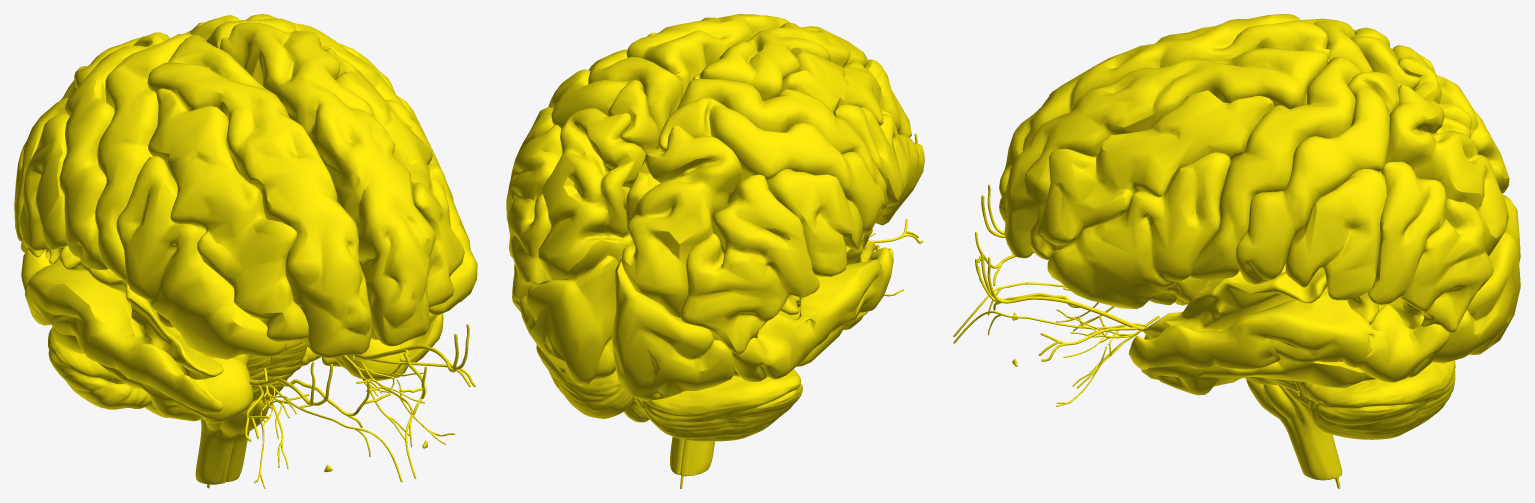
Rendered from nervous.glb.
3 renders of one model, left to right at view 1: azimuth 30°, elevation 25°; view 2: azimuth 150°, elevation 25°; view 3: azimuth 270°, elevation 25°, orthographic. The views are drawn at different scales.
Visible parts, largest first — view 1: right_superior_frontal_gyrus, left_superior_frontal_gyrus, right_middle_frontal_gyrus, right_inferior_frontal_gyrus, right_middle_temporal_gyrus, right_precentral_gyrus, right_postcentral_gyrus, left_middle_frontal_gyrus, right_supramarginal_gyrus, white_matter_of_right_cerebral_hemisphere, right_inferior_temporal_gyrus, cerebellum (+14 smaller); view 2: right_angular_gyrus, right_superior_parietal_lobule, left_superior_parietal_lobule, cerebellum (×2), right_occipital_lobe, right_postcentral_gyrus, left_occipital_lobe, right_middle_temporal_gyrus, right_superior_frontal_gyrus, right_supramarginal_gyrus, left_angular_gyrus, right_precentral_gyrus (+9 smaller); view 3: left_superior_frontal_gyrus, left_middle_frontal_gyrus, left_middle_temporal_gyrus, left_inferior_frontal_gyrus, left_angular_gyrus, left_postcentral_gyrus, left_precentral_gyrus, right_superior_frontal_gyrus, left_supramarginal_gyrus, left_superior_parietal_lobule, cerebellum, white_matter_of_left_cerebral_hemisphere (+9 smaller).
Part boxes in pixels (bbox=[...]): right_superior_frontal_gyrus: bbox=[147, 35, 372, 358]; left_superior_frontal_gyrus: bbox=[220, 22, 435, 346]; right_middle_frontal_gyrus: bbox=[148, 88, 308, 341]; right_inferior_frontal_gyrus: bbox=[116, 156, 287, 359]; right_middle_temporal_gyrus: bbox=[21, 248, 223, 413]; right_precentral_gyrus: bbox=[95, 33, 193, 284]; right_postcentral_gyrus: bbox=[59, 32, 169, 270]; left_middle_frontal_gyrus: bbox=[324, 48, 464, 307]; right_supramarginal_gyrus: bbox=[19, 113, 69, 250]; white_matter_of_right_cerebral_hemisphere: bbox=[49, 246, 308, 379]; right_inferior_temporal_gyrus: bbox=[52, 326, 253, 423]; cerebellum: bbox=[48, 328, 168, 417]; right_angular_gyrus: bbox=[680, 174, 819, 354]; right_superior_parietal_lobule: bbox=[621, 125, 743, 317]; left_superior_parietal_lobule: bbox=[538, 108, 645, 280]; cerebellum (×2): bbox=[536, 344, 802, 441]; right_occipital_lobe: bbox=[611, 259, 734, 401]; right_postcentral_gyrus: bbox=[658, 97, 884, 233]; left_occipital_lobe: bbox=[519, 255, 618, 385]; right_middle_temporal_gyrus: bbox=[732, 247, 893, 381]; right_superior_frontal_gyrus: bbox=[692, 22, 868, 100]; right_supramarginal_gyrus: bbox=[766, 169, 863, 276]; left_angular_gyrus: bbox=[506, 124, 562, 301]; right_precentral_gyrus: bbox=[677, 79, 888, 210]; left_superior_frontal_gyrus: bbox=[999, 48, 1329, 258]; left_middle_frontal_gyrus: bbox=[1029, 90, 1273, 259]; left_middle_temporal_gyrus: bbox=[1128, 291, 1450, 382]; left_inferior_frontal_gyrus: bbox=[1047, 152, 1230, 308]; left_angular_gyrus: bbox=[1368, 161, 1493, 332]; left_postcentral_gyrus: bbox=[1236, 71, 1401, 284]; left_precentral_gyrus: bbox=[1190, 56, 1361, 280]; right_superior_frontal_gyrus: bbox=[999, 14, 1330, 196]; left_supramarginal_gyrus: bbox=[1285, 169, 1387, 300]; left_superior_parietal_lobule: bbox=[1379, 84, 1508, 256]; cerebellum: bbox=[1296, 360, 1455, 439]; white_matter_of_left_cerebral_hemisphere: bbox=[1143, 264, 1424, 338].
Size of the model in its own units: 149 by 185 by 211.
